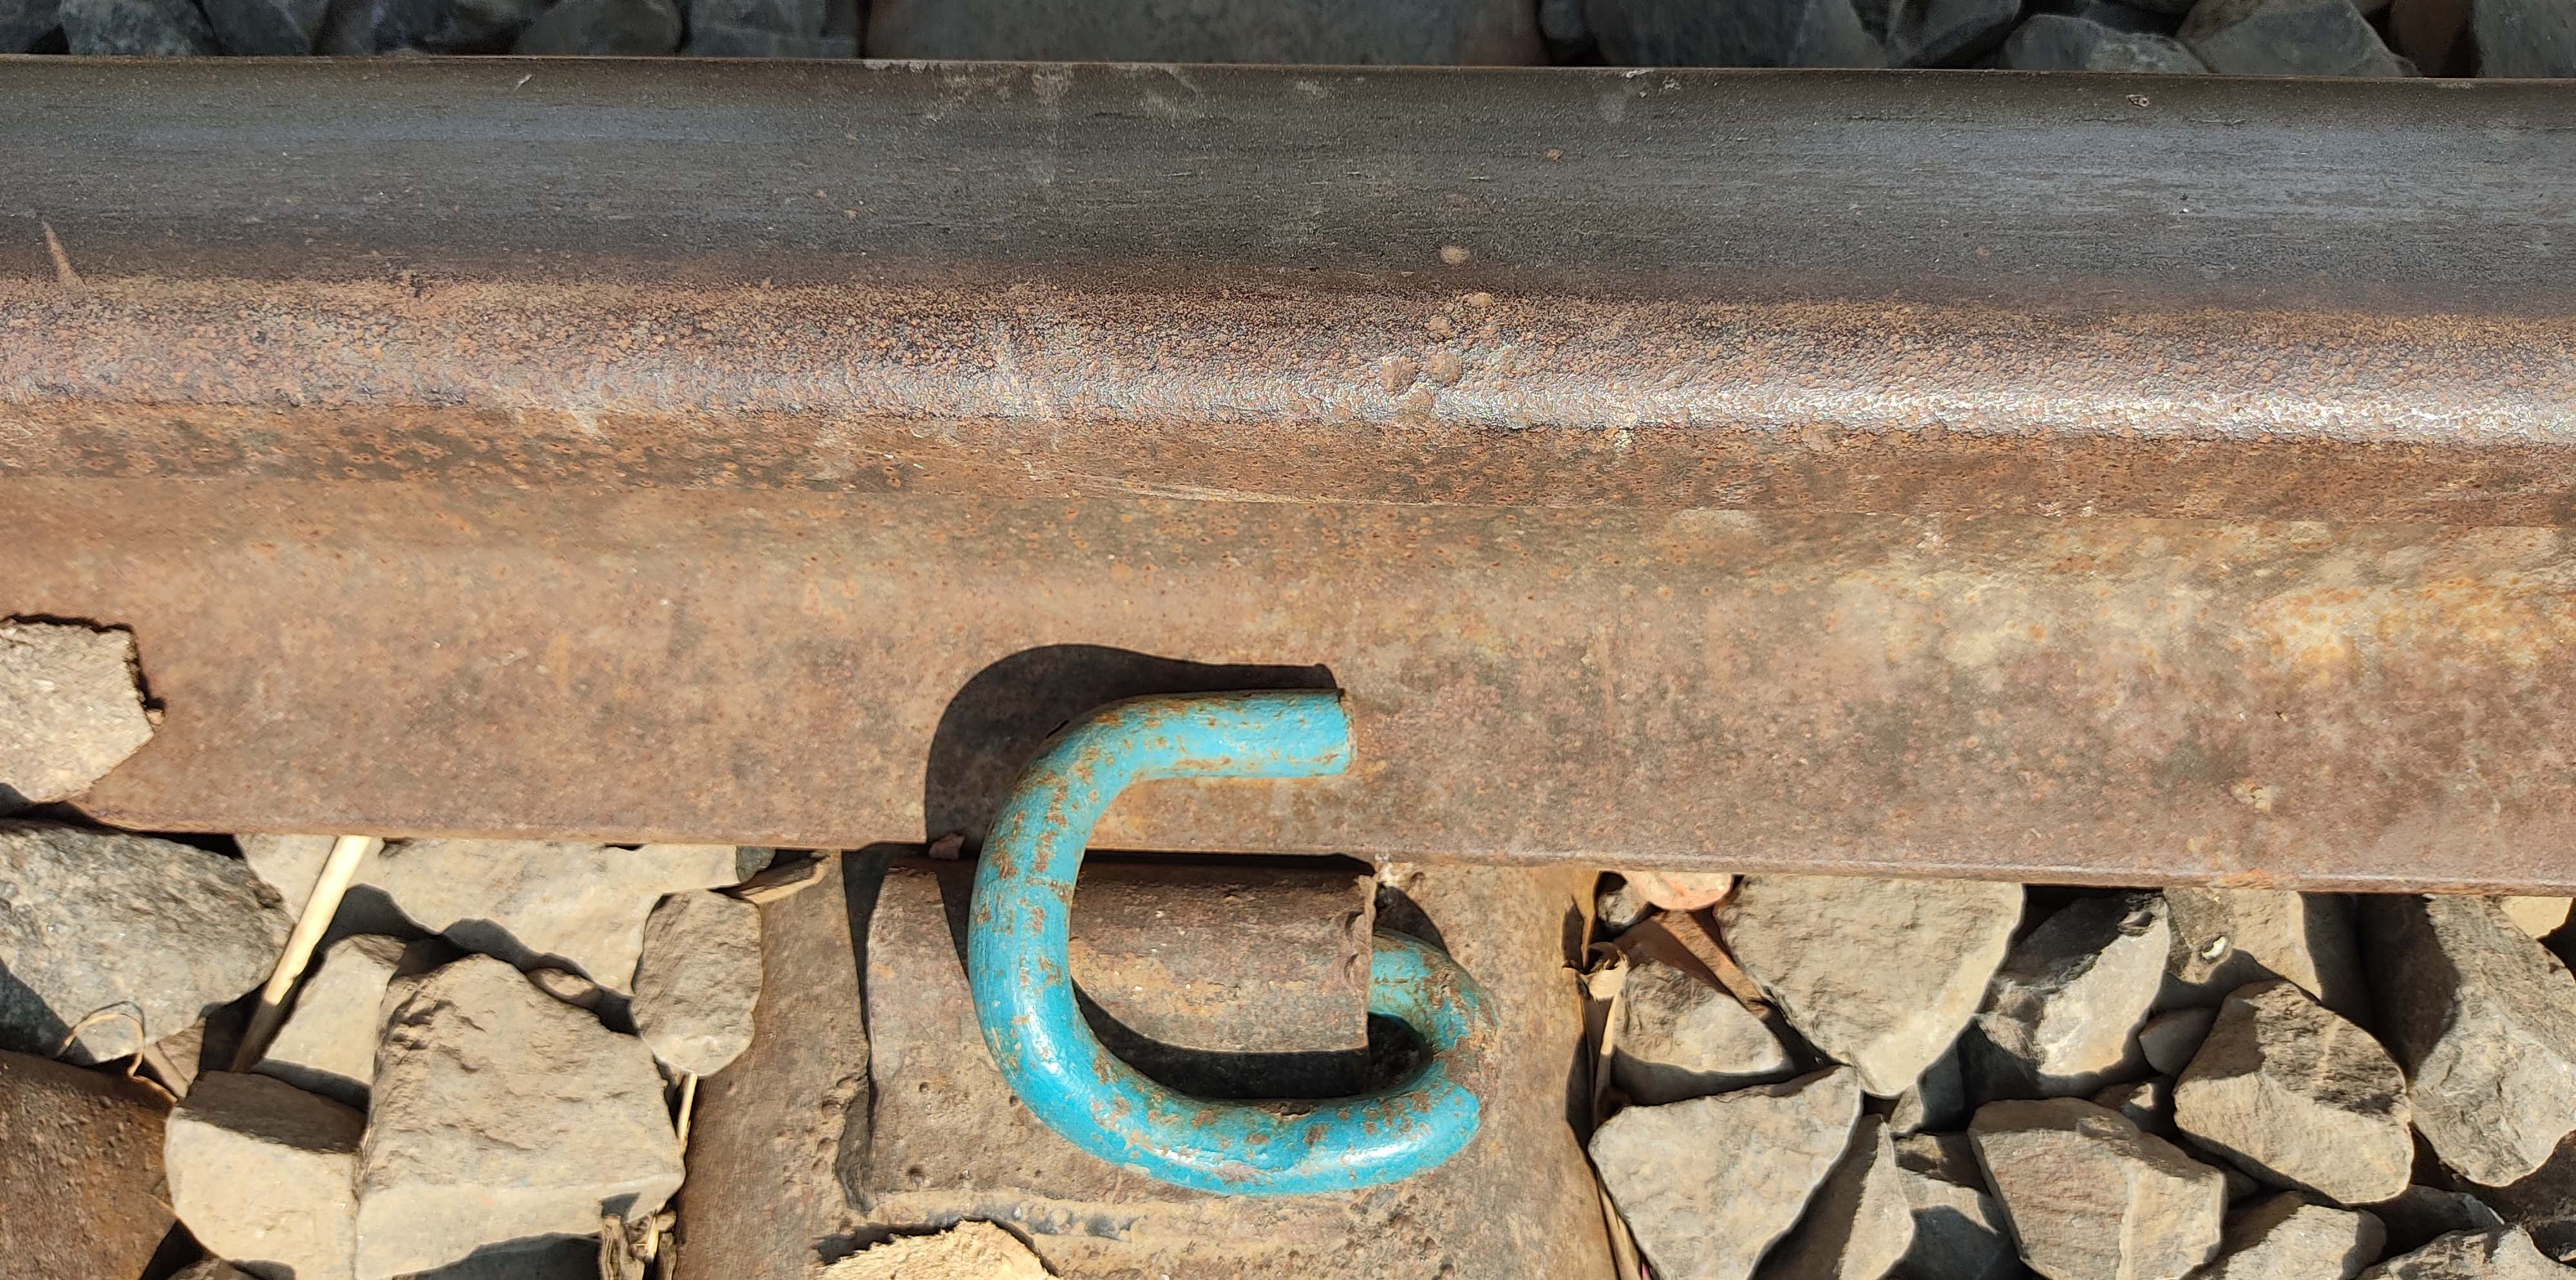error1: (915, 615, 1533, 1208)
